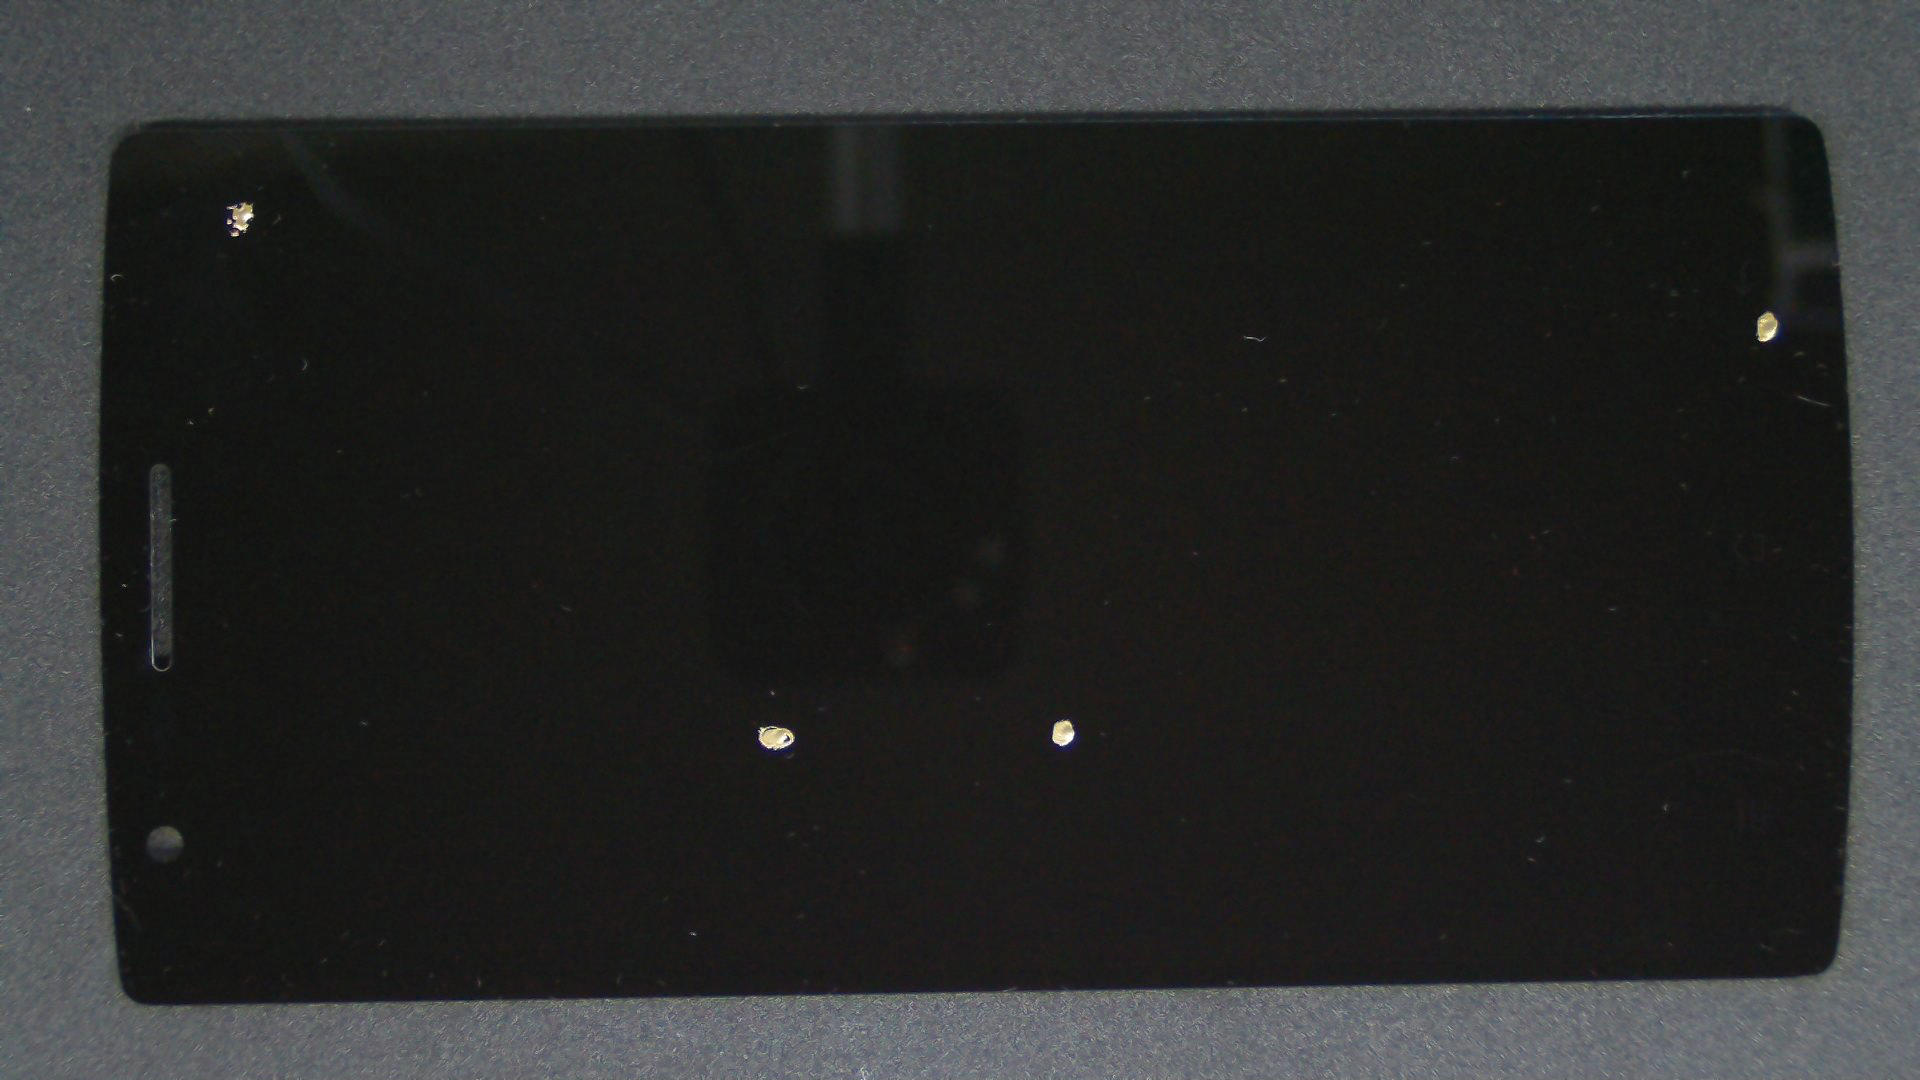defect: (757, 724, 796, 752), (225, 200, 255, 237), (1755, 310, 1780, 343), (1050, 717, 1076, 746)
